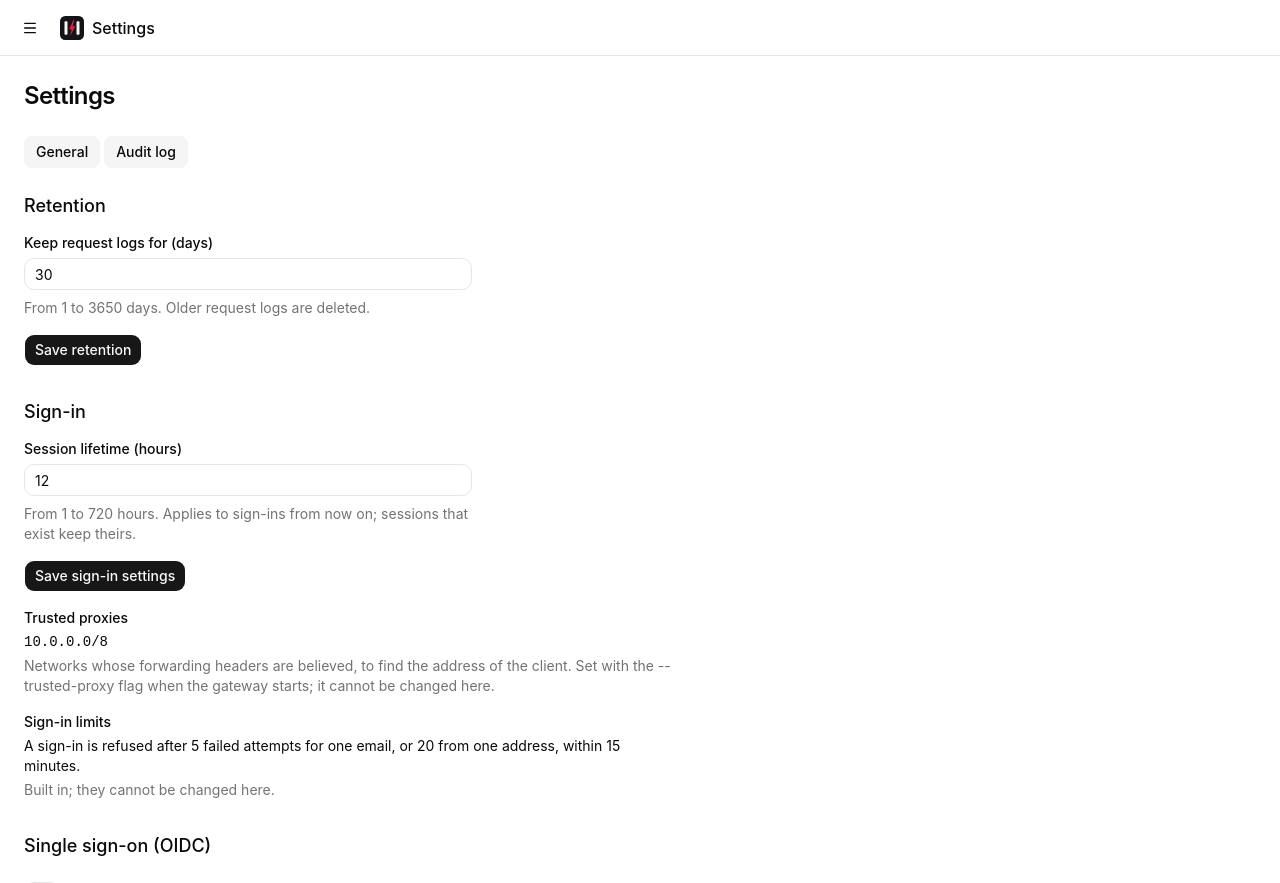
Test: the settings page › is refused on the field, nothing is sent
Clear the field labelled "Keep request logs for (days)". click: (248, 274)
box: [24, 258, 472, 290]
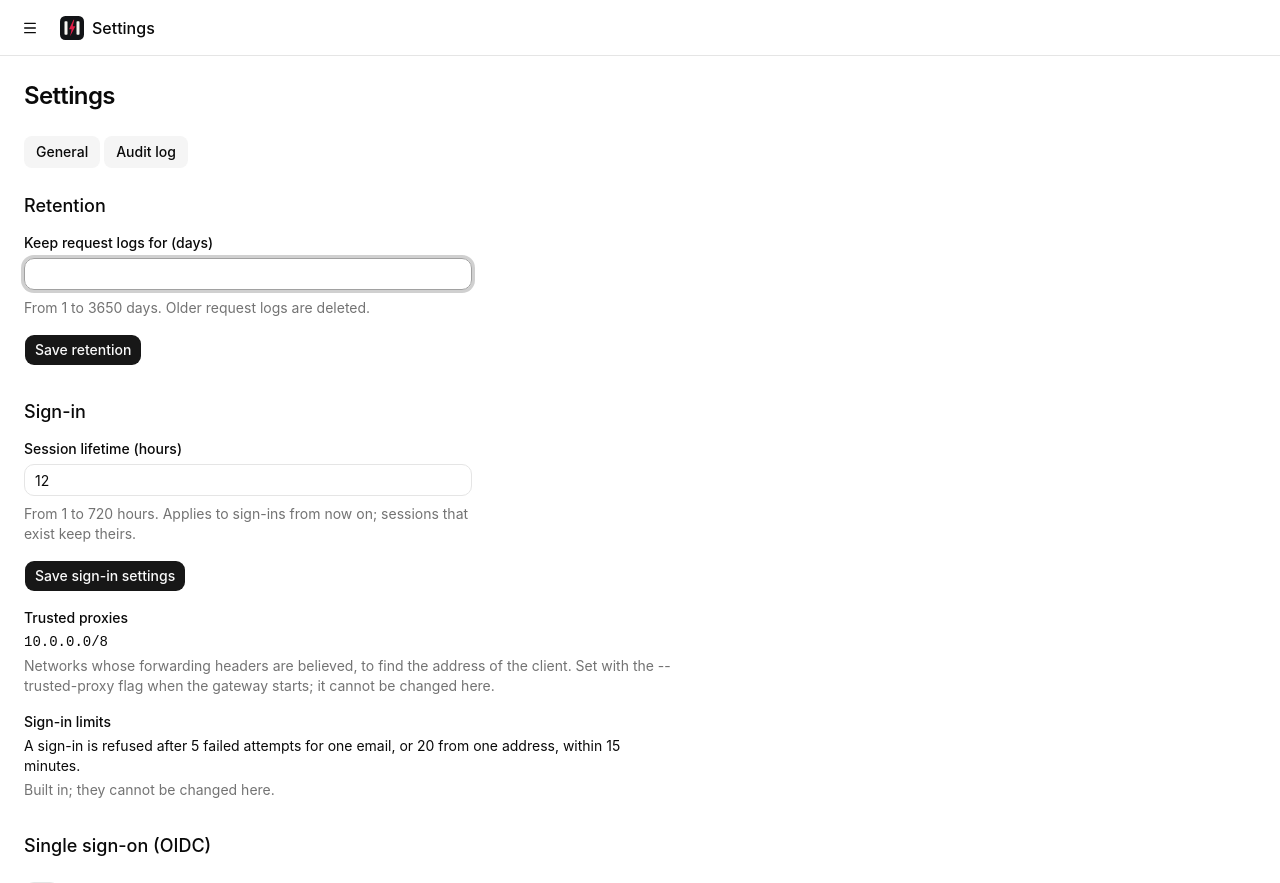
Click the button "Save retention". click: (83, 350)
box: [24, 334, 142, 366]
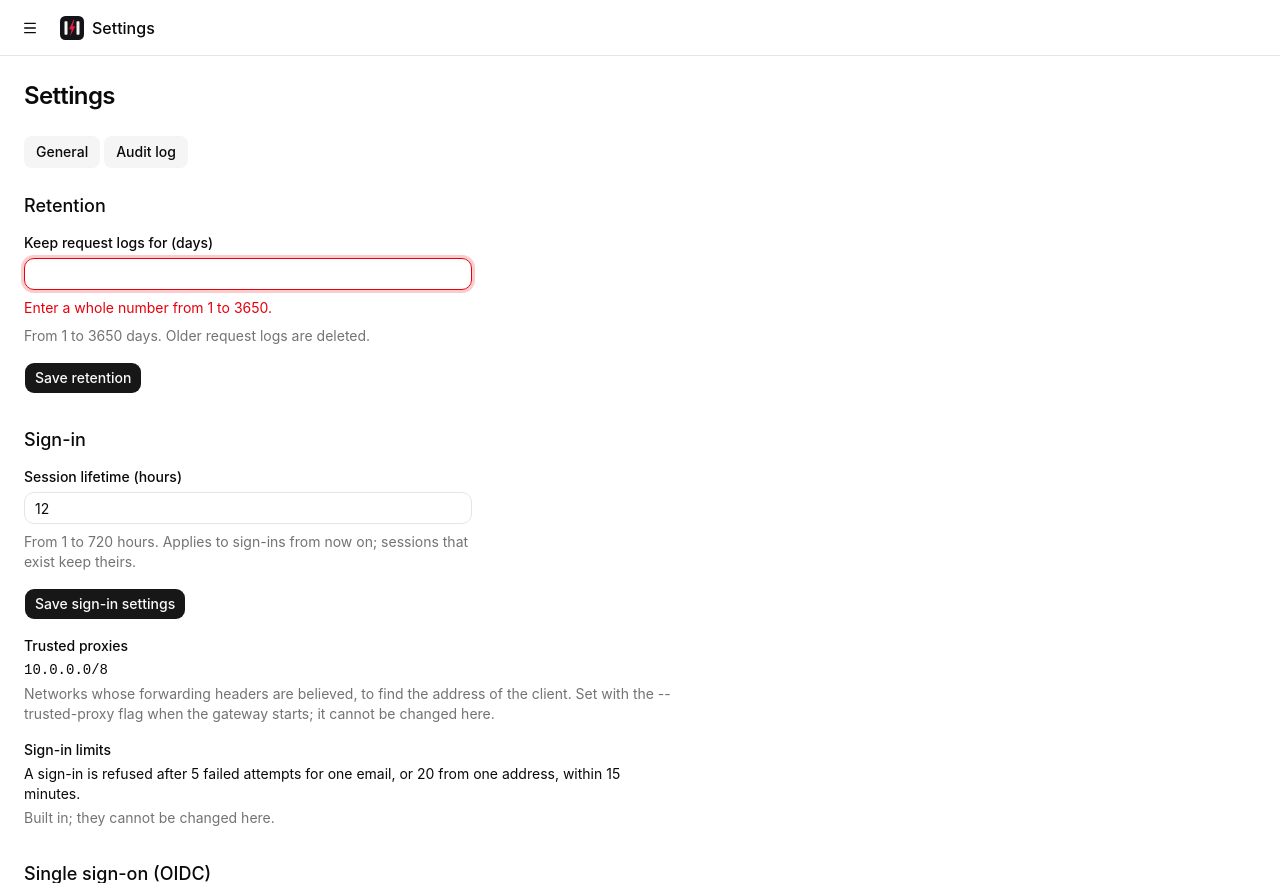
Now the text "Enter a whole number from 1 to 3650." is shown, box [24, 299, 272, 316]
